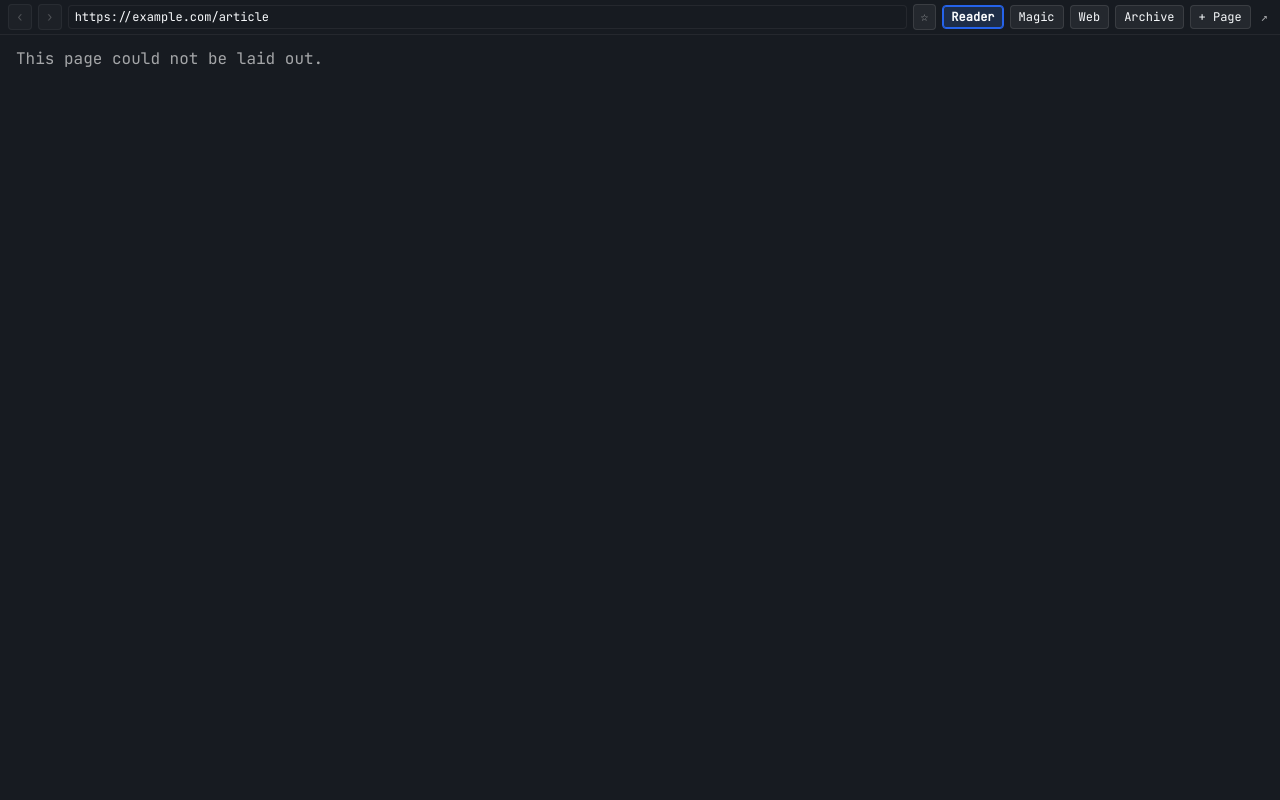
adding what you are reading as a page › offers FOLDERS, Root included, and no containers
Click the button with aria-label "Add as page" at (1220, 17), box [1190,5,1251,29]
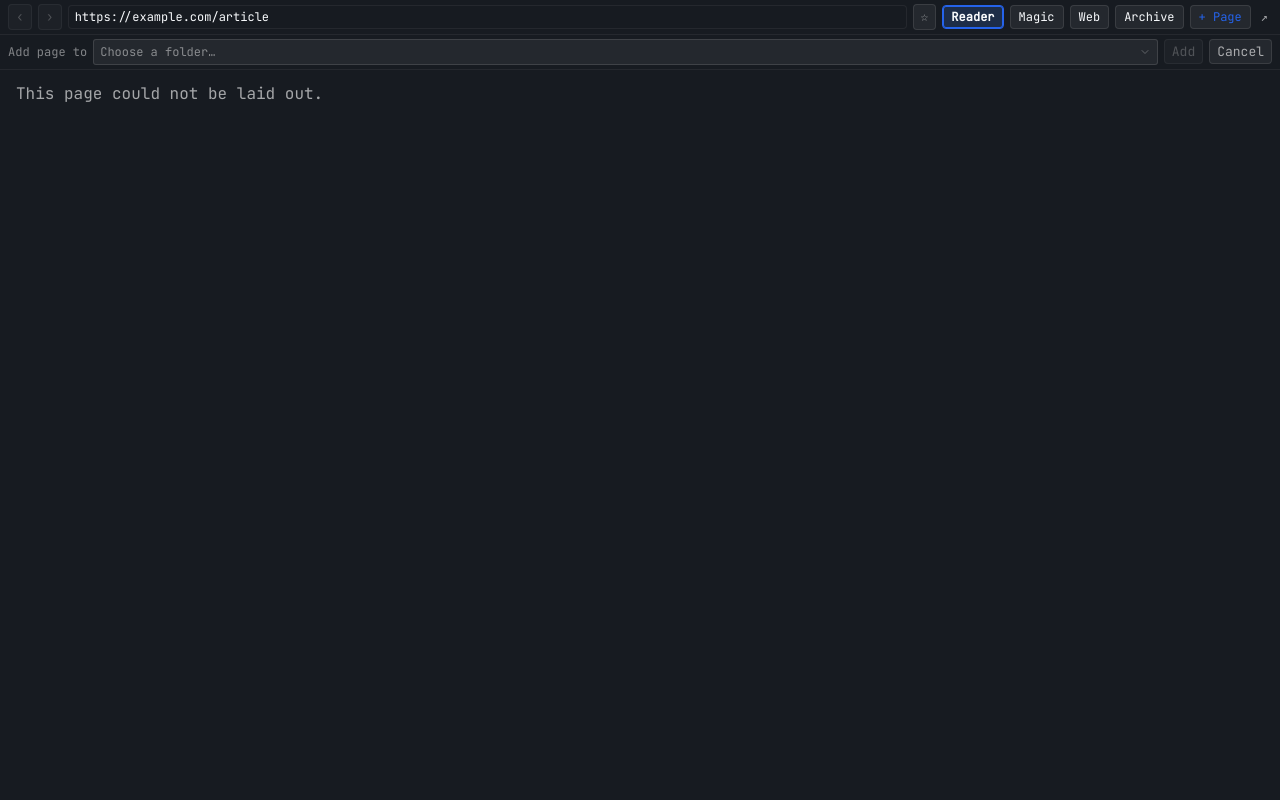
Click the button with aria-label "choose destination" at (158, 52), box [93,38,1158,64]
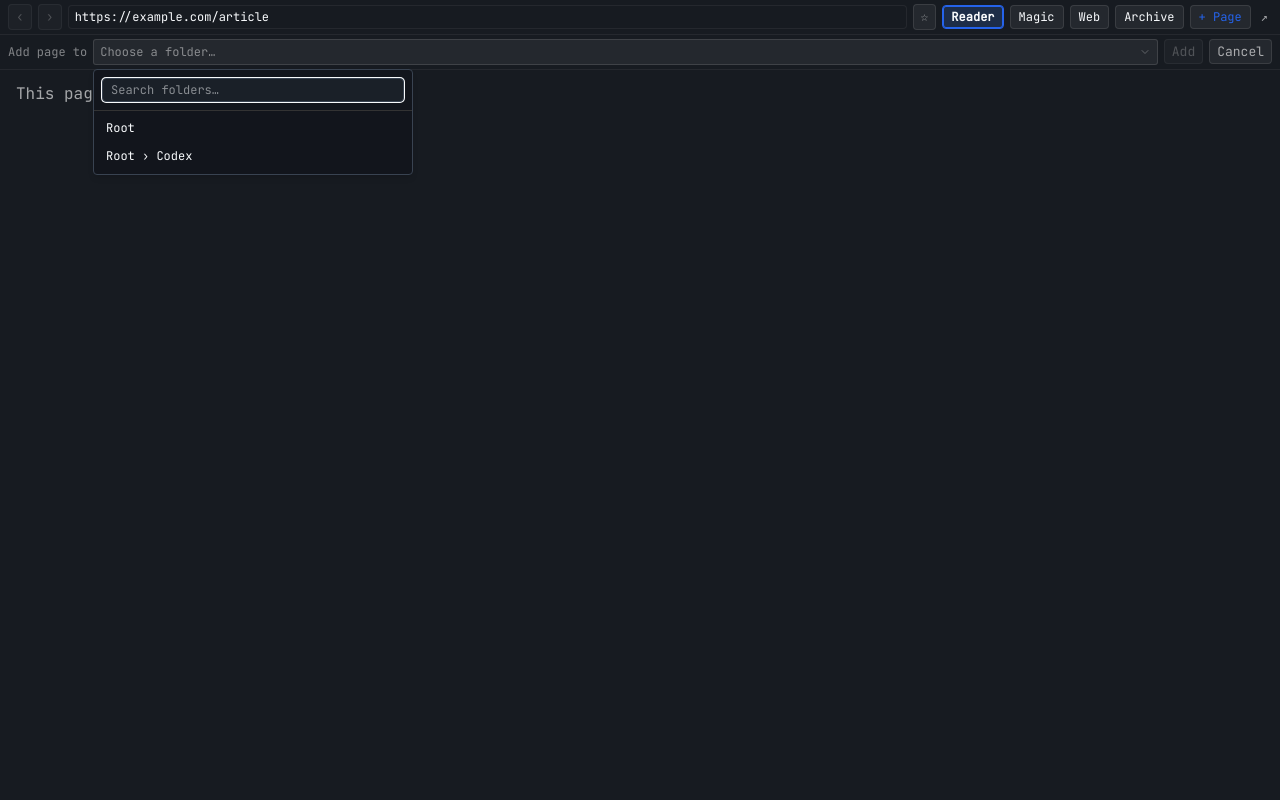
Check: the field with placeholder "Search folders…" is shown, box [102,78,404,102]
Check: the text "Root" is shown, box [106,121,135,137]
Check: the text "Root › Codex" is shown, box [106,149,192,164]
